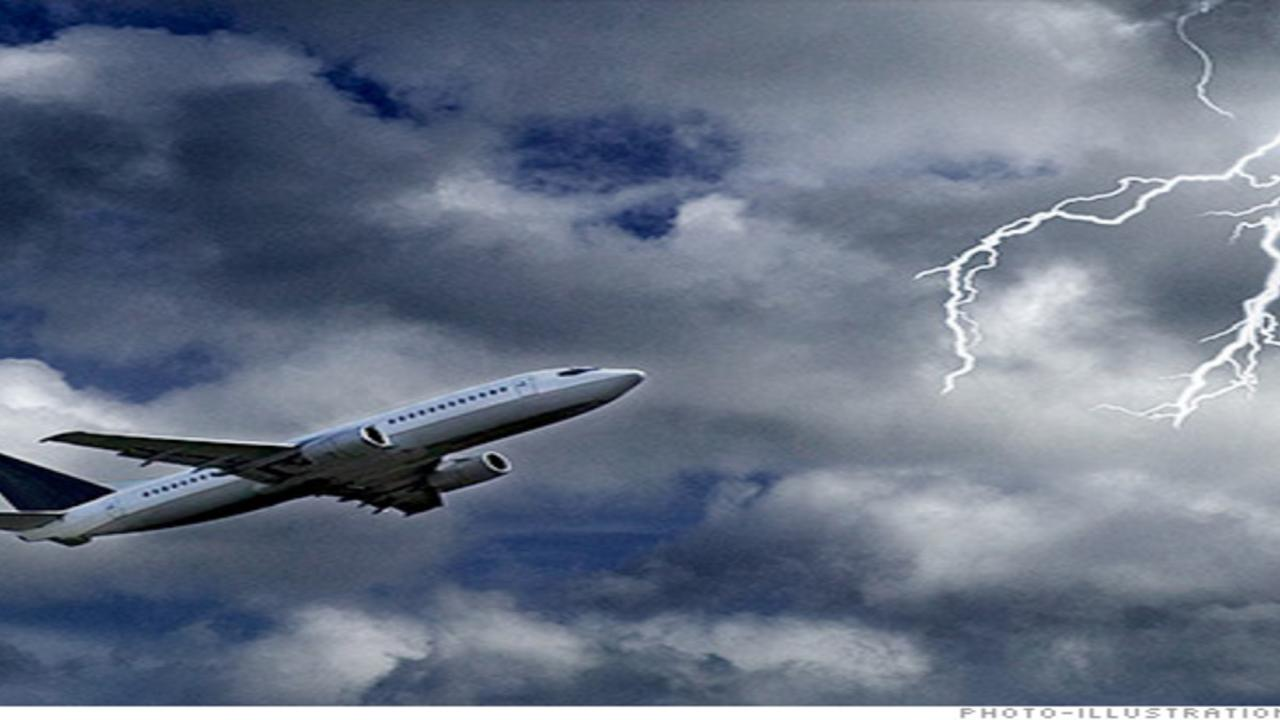Airplane: (0, 346, 679, 564)
